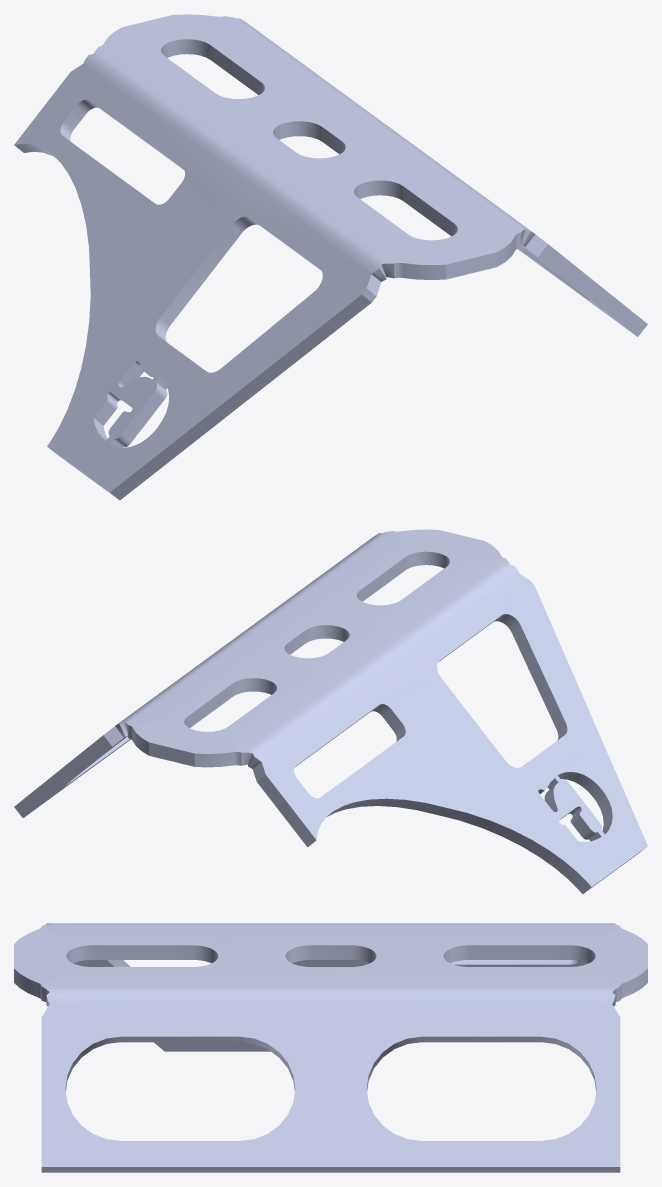
Rendered from UA_26EV_Steering_Assembly__MirrorSteering_Rack_Mount4_2.dae.
3 renders of one model, top to bottom at view 1: azimuth 30°, elevation 25°; view 2: azimuth 150°, elevation 25°; view 3: azimuth 270°, elevation 25°, orthographic. The views are drawn at different scales.
Visible parts, largest first — view 1: node0; view 2: node0; view 3: node0.
Part boxes in pixels (<box>): node0: <box>14,14,647,500</box>; node0: <box>14,529,647,894</box>; node0: <box>14,923,647,1172</box>.
Bounding box in the file's own units: 0.0677 × 0.0315 × 0.08.
